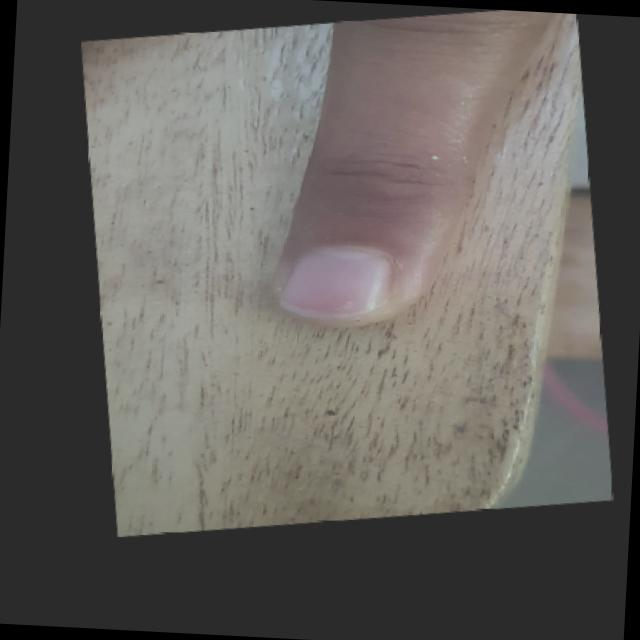Nail: (281, 247, 392, 317)
